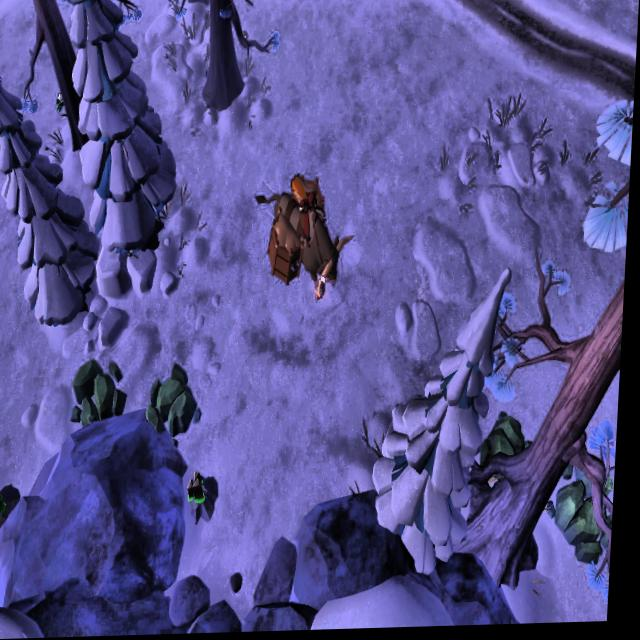ore_t3: (189, 469, 213, 510), (0, 481, 13, 524)
rock_t3: (549, 461, 621, 573), (73, 349, 133, 438), (146, 361, 210, 443), (484, 414, 533, 485)
